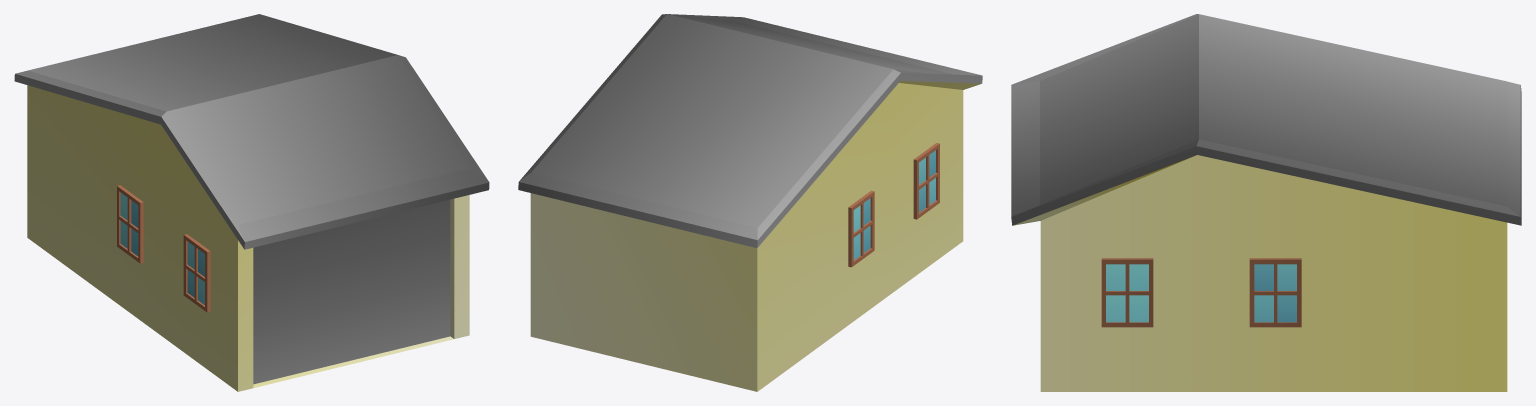
File: SM_Street_House_F1_ONLY.fbx
The picture shows the model from 3 angles, left to right: view 1: azimuth 30°, elevation 25°; view 2: azimuth 150°, elevation 25°; view 3: azimuth 270°, elevation 25°; orthographic projection. The views are drawn at different scales.
Parts seen in each view (by area): view 1: Street_House_F1_ONLY_mash; view 2: Street_House_F1_ONLY_mash; view 3: Street_House_F1_ONLY_mash.
Boxes of the visible parts, x1,y1,x2,y2 form: Street_House_F1_ONLY_mash: (14, 14, 489, 391); Street_House_F1_ONLY_mash: (518, 14, 982, 391); Street_House_F1_ONLY_mash: (1011, 14, 1521, 391).
Size of the model in its own units: 4.22 by 3.76 by 6.89.
